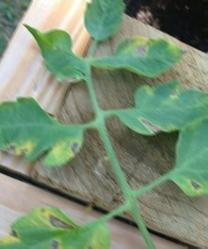Tomato Early blight leaf: (0, 101, 88, 167), (114, 80, 208, 136), (20, 15, 88, 87), (0, 206, 110, 249), (98, 38, 193, 77)
Tomato leaf: (81, 0, 128, 41)
